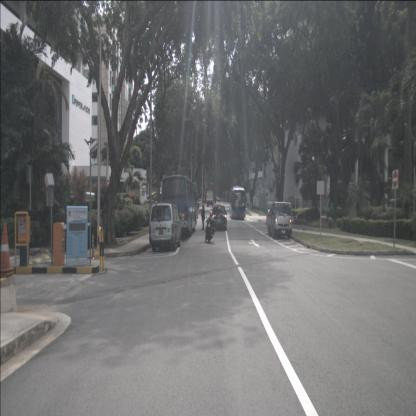human-pedestrian-adult: (201, 204, 205, 231)
movable_object-trafficcone: (0, 223, 15, 273), (92, 233, 94, 260)
vehicle-bus-rigid: (162, 175, 198, 237), (230, 186, 246, 219)
vehicle-car: (149, 204, 182, 252), (212, 204, 226, 231), (147, 191, 166, 205)
vehicle-motorcycle: (205, 211, 216, 243)
vehicle-truck: (267, 201, 292, 239), (206, 191, 214, 206)
